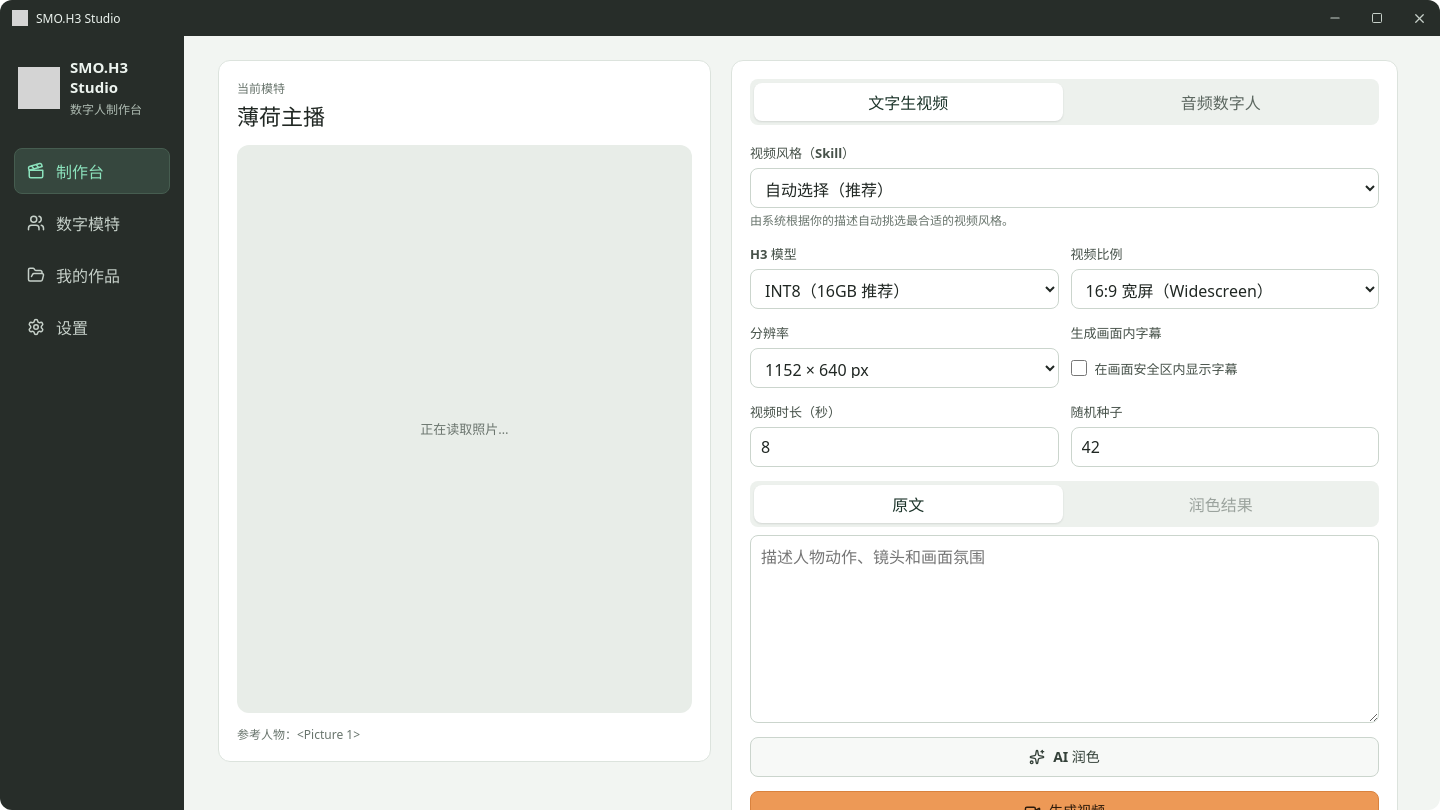
SMO.H3 Studio navigation and avatars › deletes an avatar only after confirmation and refreshes the list
Expected: the heading "薄荷主播" is shown, [237,101,325,131]
Click the button "数字模特".
click(92, 223)  # box [14,200,170,246]
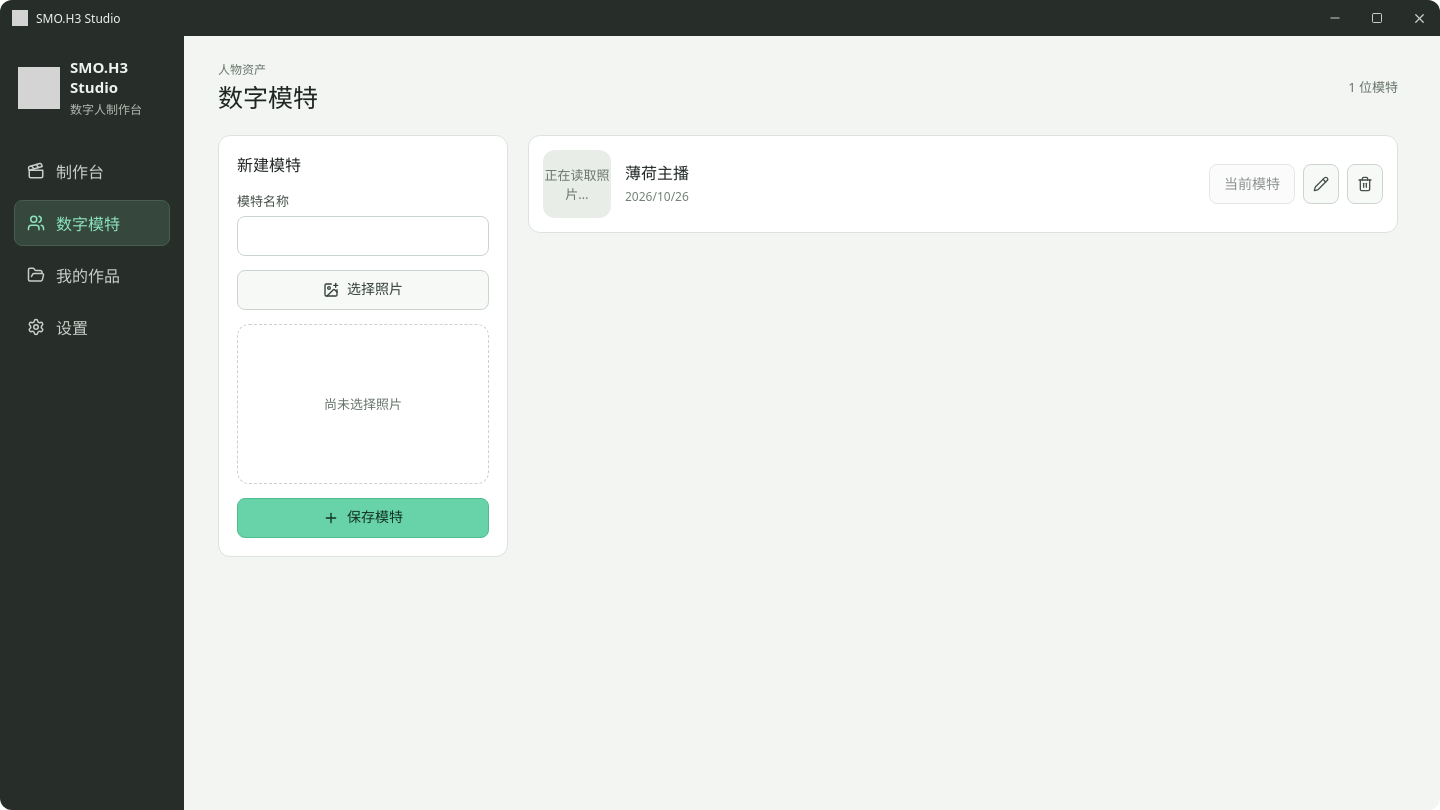
Click the button named "删除 薄荷主播".
click(1365, 184)  # box [1347,164,1383,204]
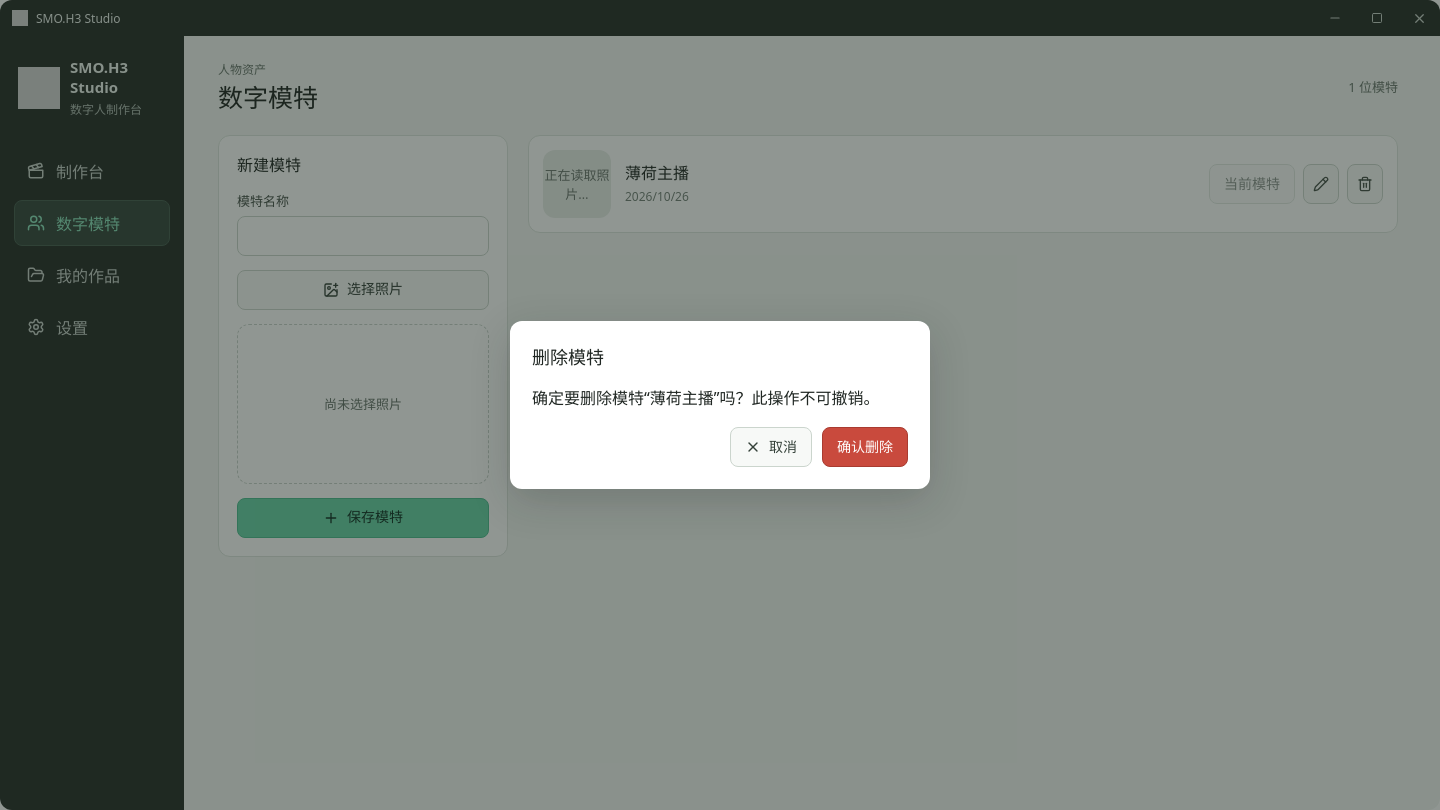
Expected: the dialog "删除模特" is shown
Click the button "确认删除".
click(865, 447)  # box [822,427,908,467]
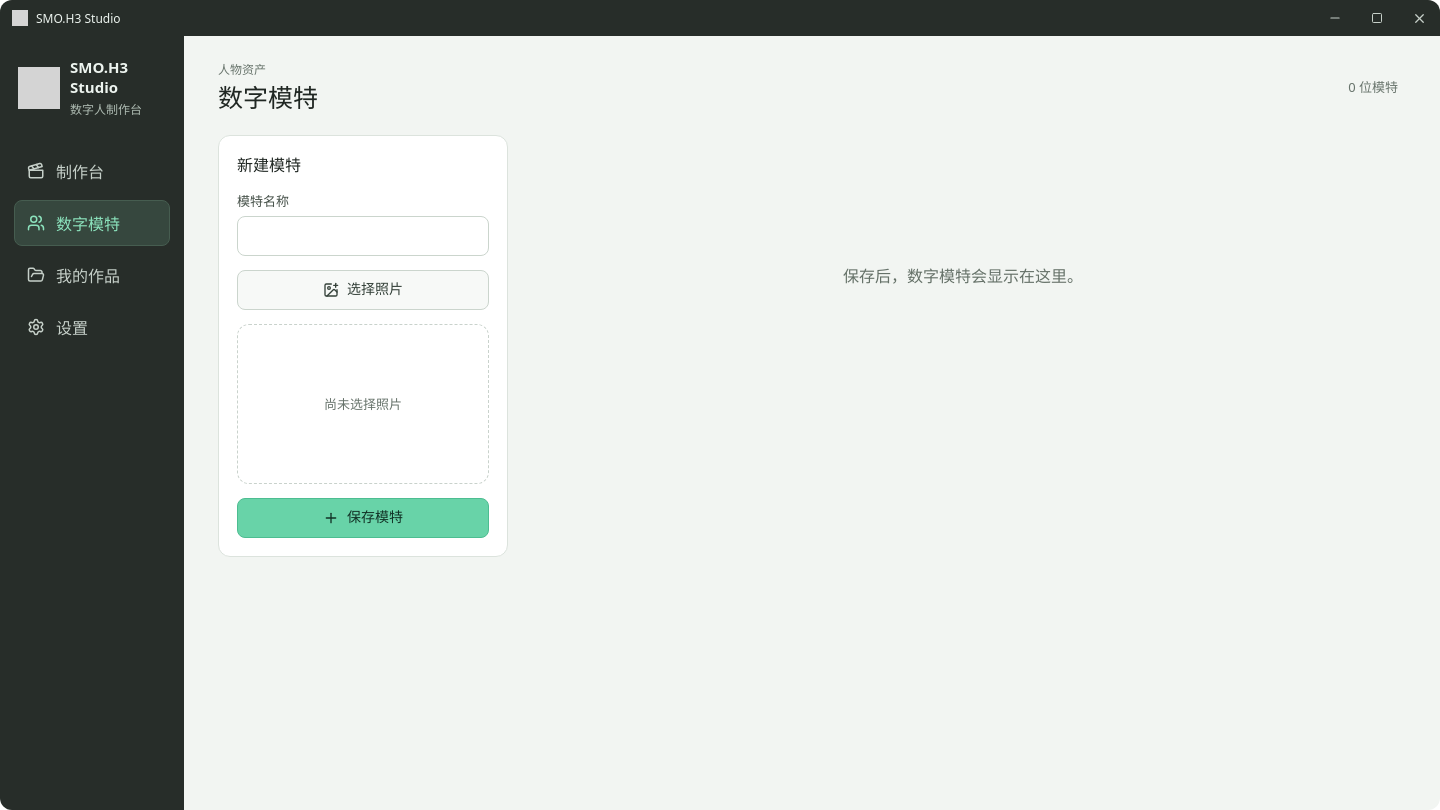
Expected: the text "保存后，数字模特会显示在这里。" is shown, [843,265,1083,287]
Expected: the dialog is gone
